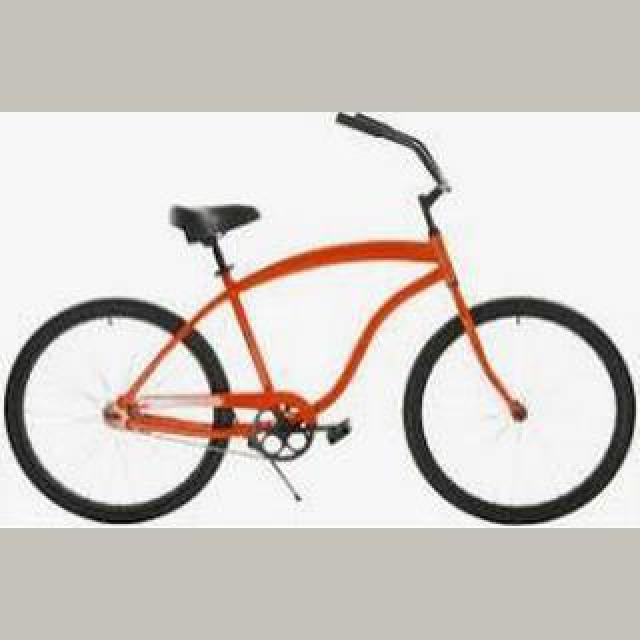Person: (2, 112, 640, 528)
